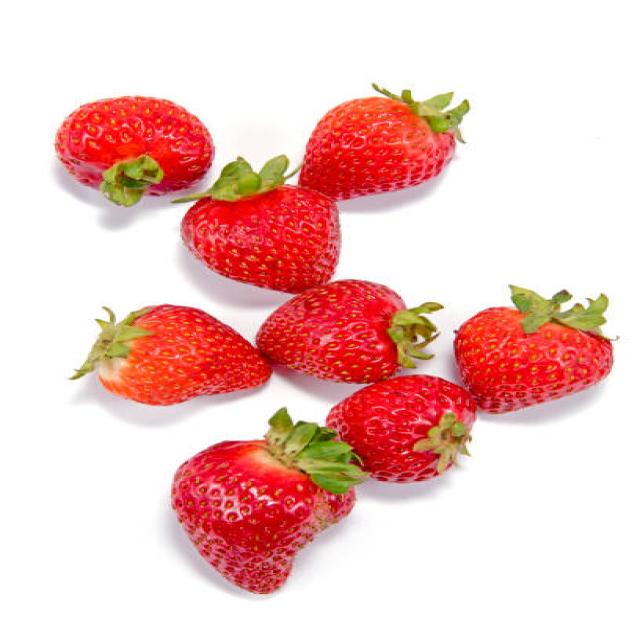Healthy Fruit: (168, 438, 356, 599), (174, 184, 338, 294), (94, 307, 277, 403), (317, 371, 474, 480), (453, 309, 615, 413), (54, 97, 217, 195), (300, 96, 450, 200), (258, 279, 398, 385)
